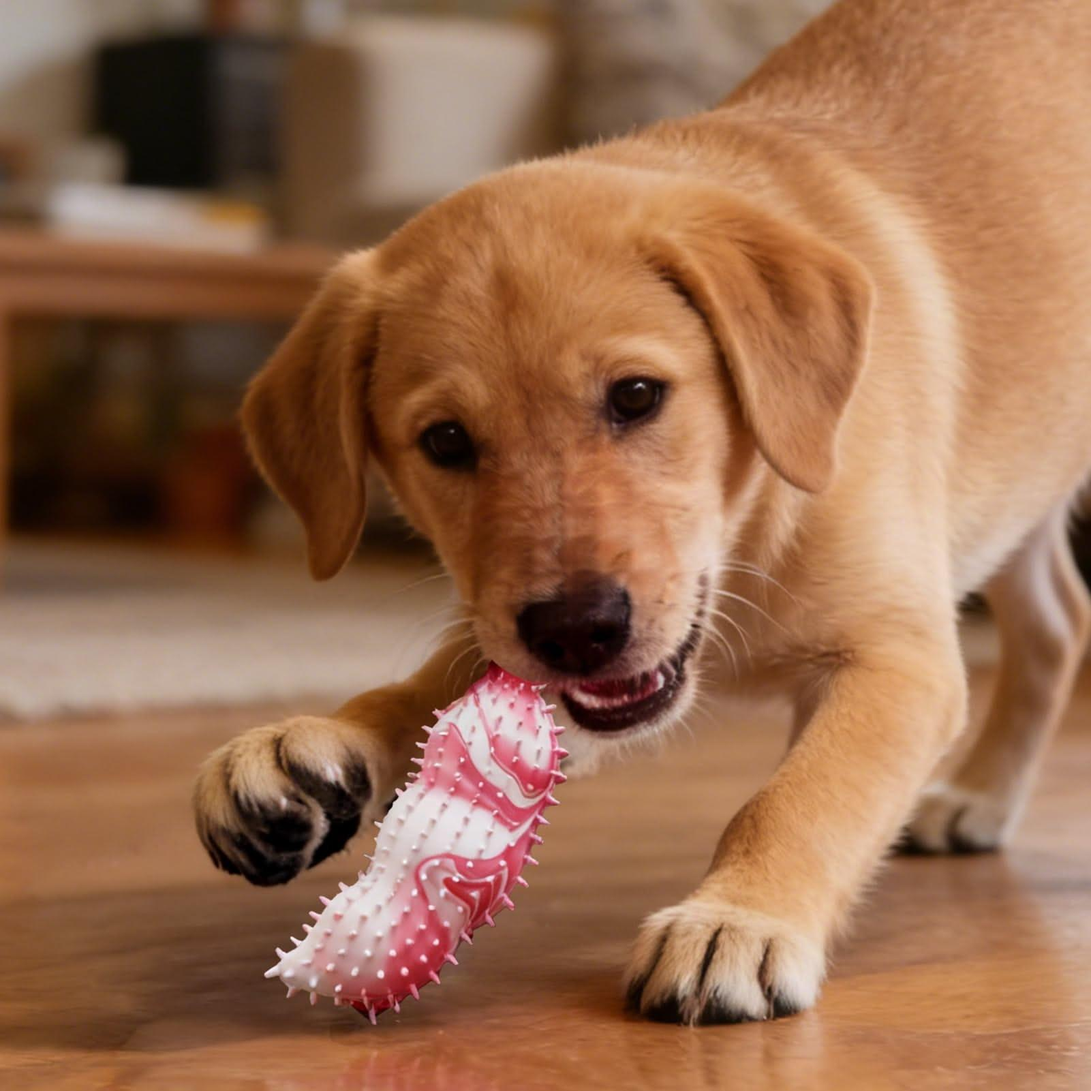puppy-dog: (189, 1, 1091, 1036)
